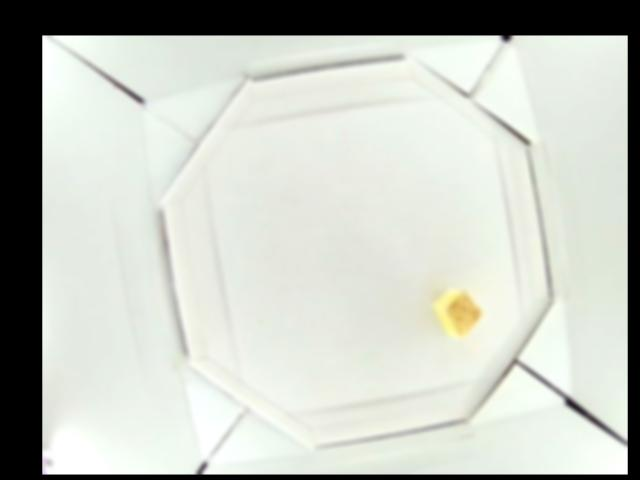Potato: (431, 287, 480, 335)
